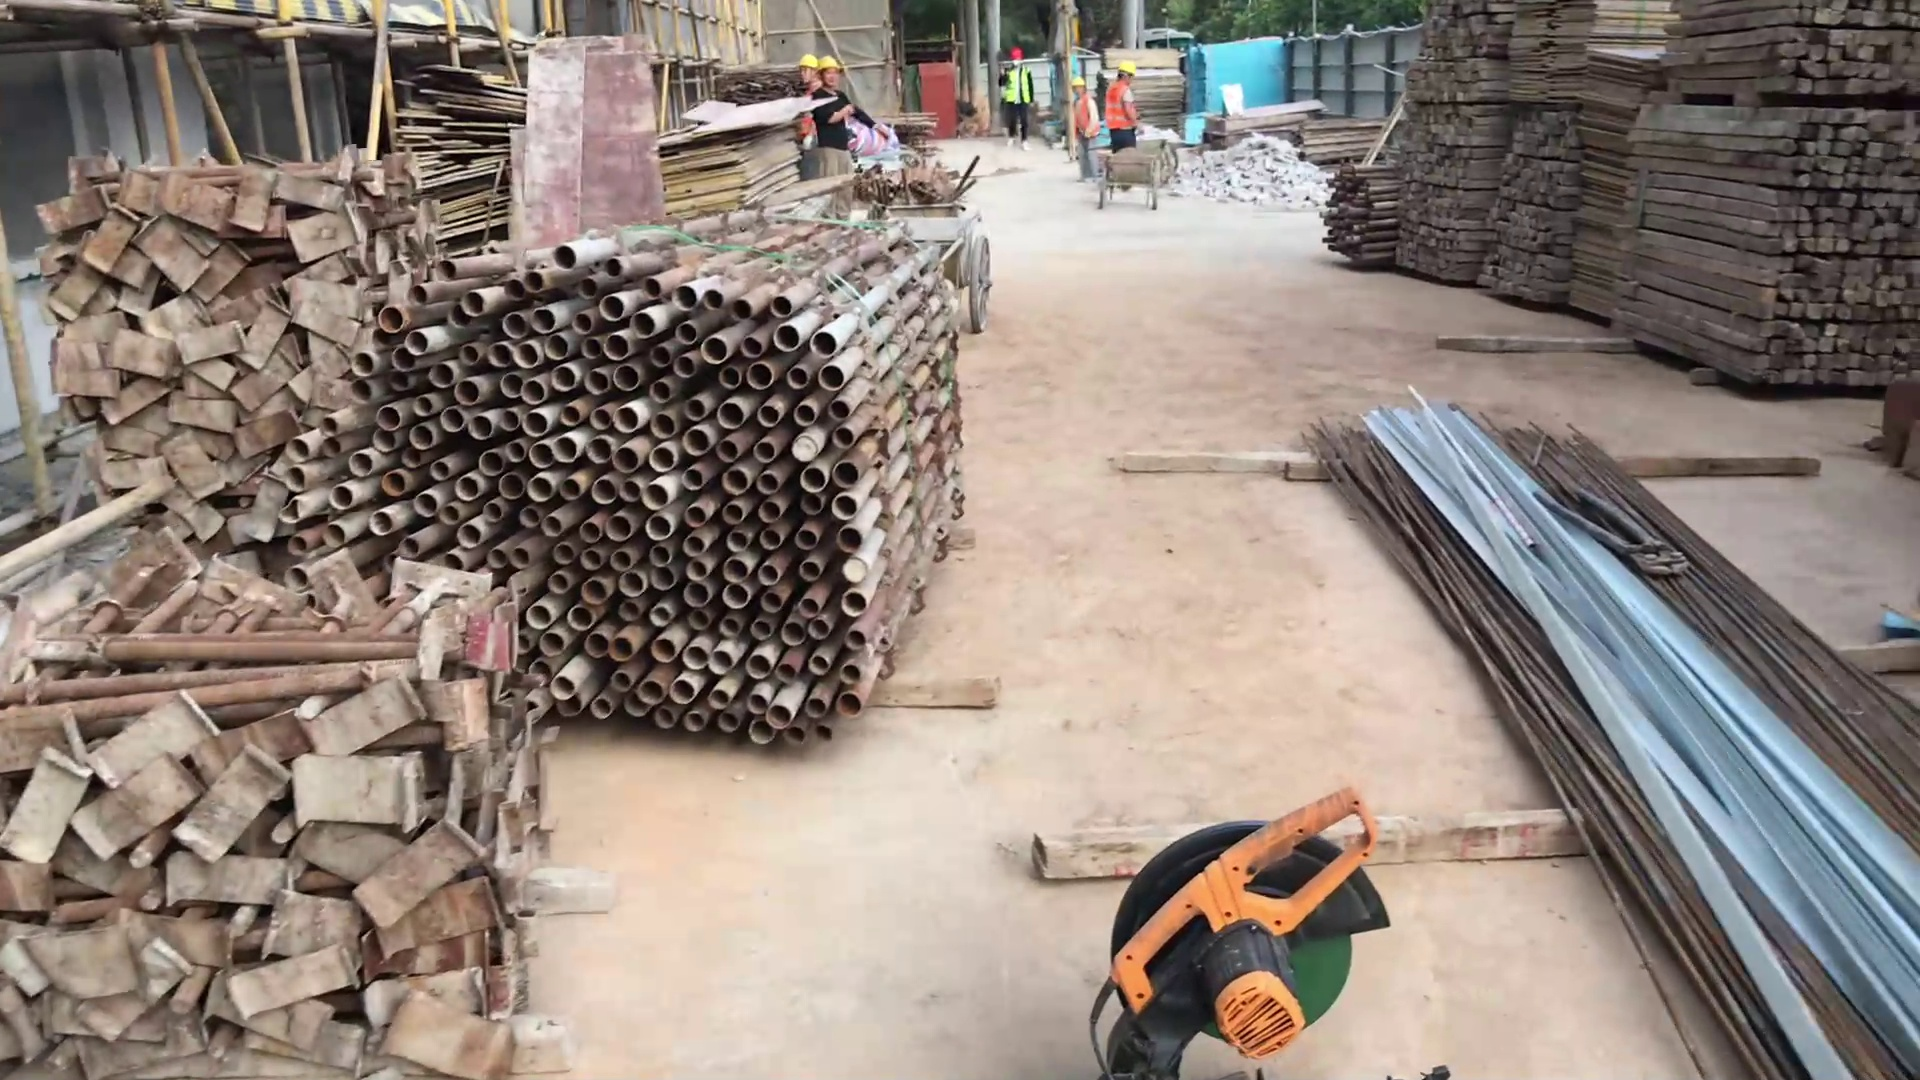board: (655, 83, 826, 231), (1567, 97, 1648, 328), (1504, 1, 1671, 114)
cutter: (1072, 776, 1431, 1080)
handcart: (892, 202, 993, 336), (1089, 138, 1175, 217)
helmet: (1110, 56, 1140, 83), (813, 53, 842, 73), (796, 51, 819, 72), (1069, 73, 1089, 92), (1007, 46, 1026, 63)
person: (811, 53, 895, 178), (1061, 72, 1108, 187), (1099, 53, 1148, 155), (997, 45, 1042, 154), (792, 50, 824, 154)
scaffold: (326, 224, 976, 757)
vest: (1101, 81, 1137, 133), (1069, 94, 1102, 140), (1003, 63, 1035, 107)
wood: (1598, 99, 1920, 407), (1655, 1, 1913, 109), (1470, 111, 1582, 315), (1387, 104, 1506, 289), (1393, 1, 1510, 108)
